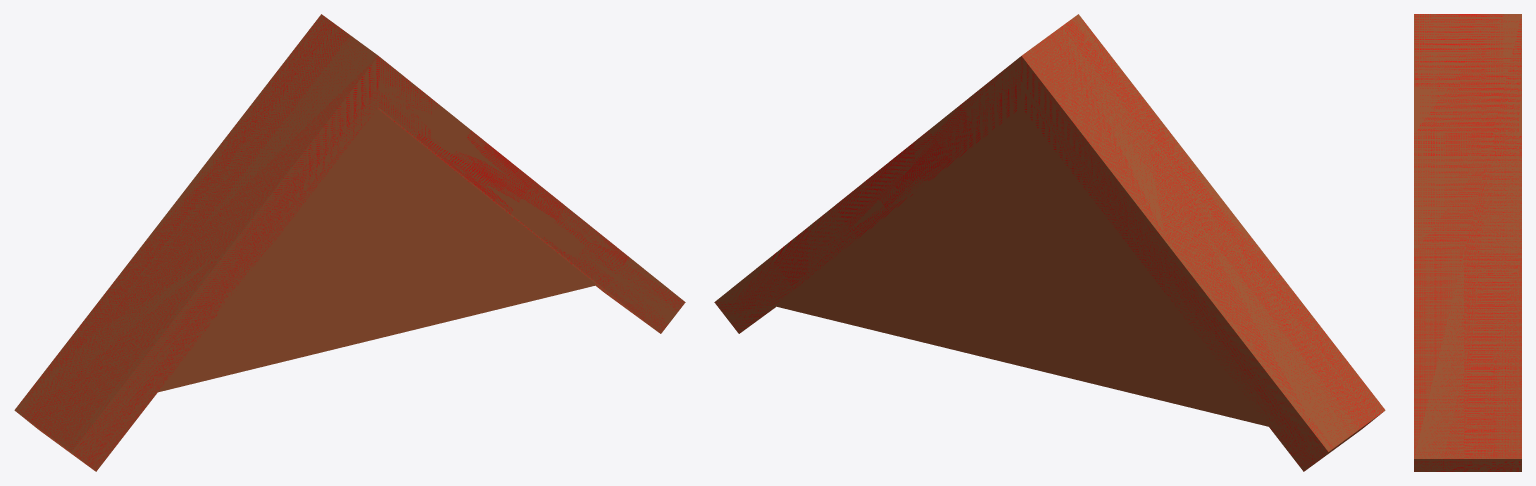
File: roof_gable_middle_roof.fbx
3 views of the same model, side by side, from view 1: azimuth 30°, elevation 25°; view 2: azimuth 150°, elevation 25°; view 3: azimuth 270°, elevation 25° (orthographic). The views are drawn at different scales.
Visible parts, largest first — view 1: Mesh1_Component_13_1 Model; view 2: Mesh1_Component_13_1 Model; view 3: Mesh1_Component_13_1 Model.
Boxes of the visible parts, box(x1,y1,x2,y2) form: Mesh1_Component_13_1 Model: box(14, 14, 685, 471); Mesh1_Component_13_1 Model: box(714, 14, 1385, 471); Mesh1_Component_13_1 Model: box(1414, 14, 1521, 471).
Size of the model in its own units: 1.24 by 0.6707 by 0.2.
